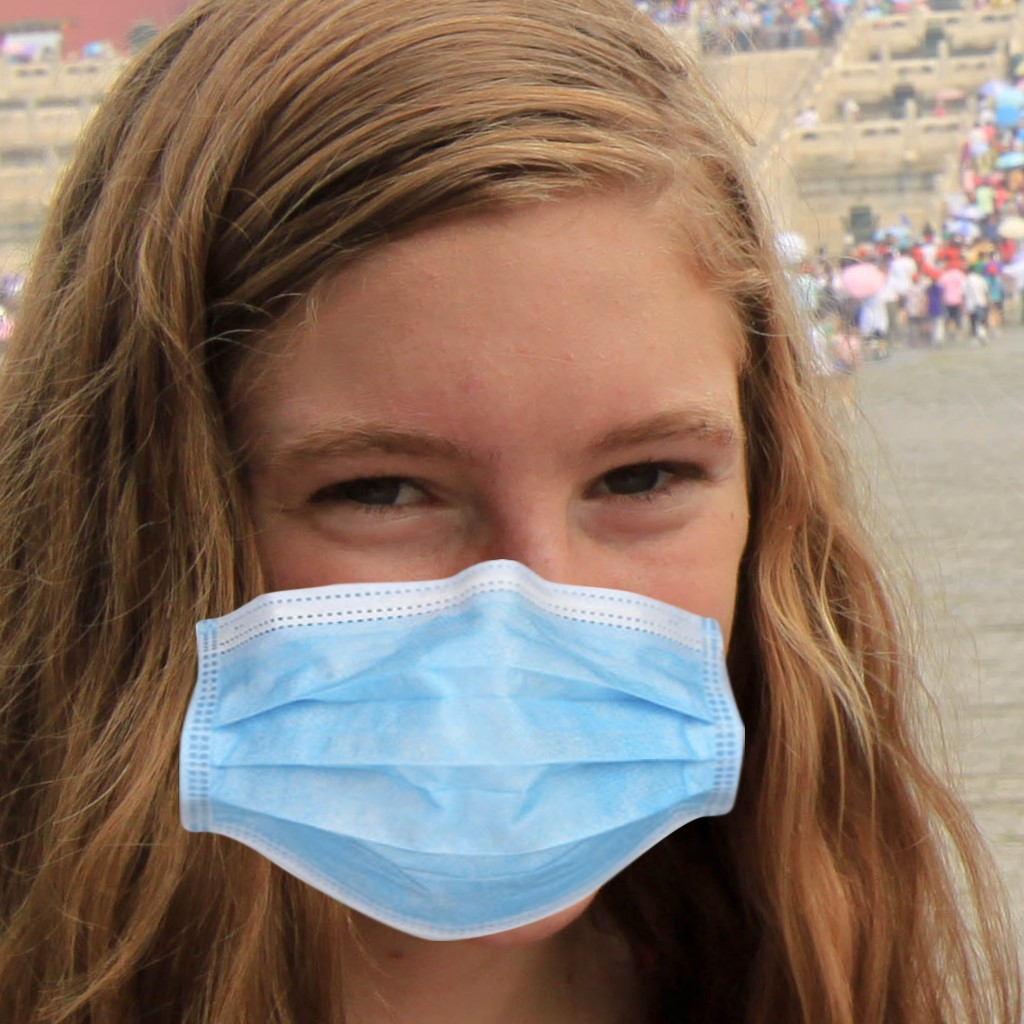con_mascara: (166, 78, 789, 930)
